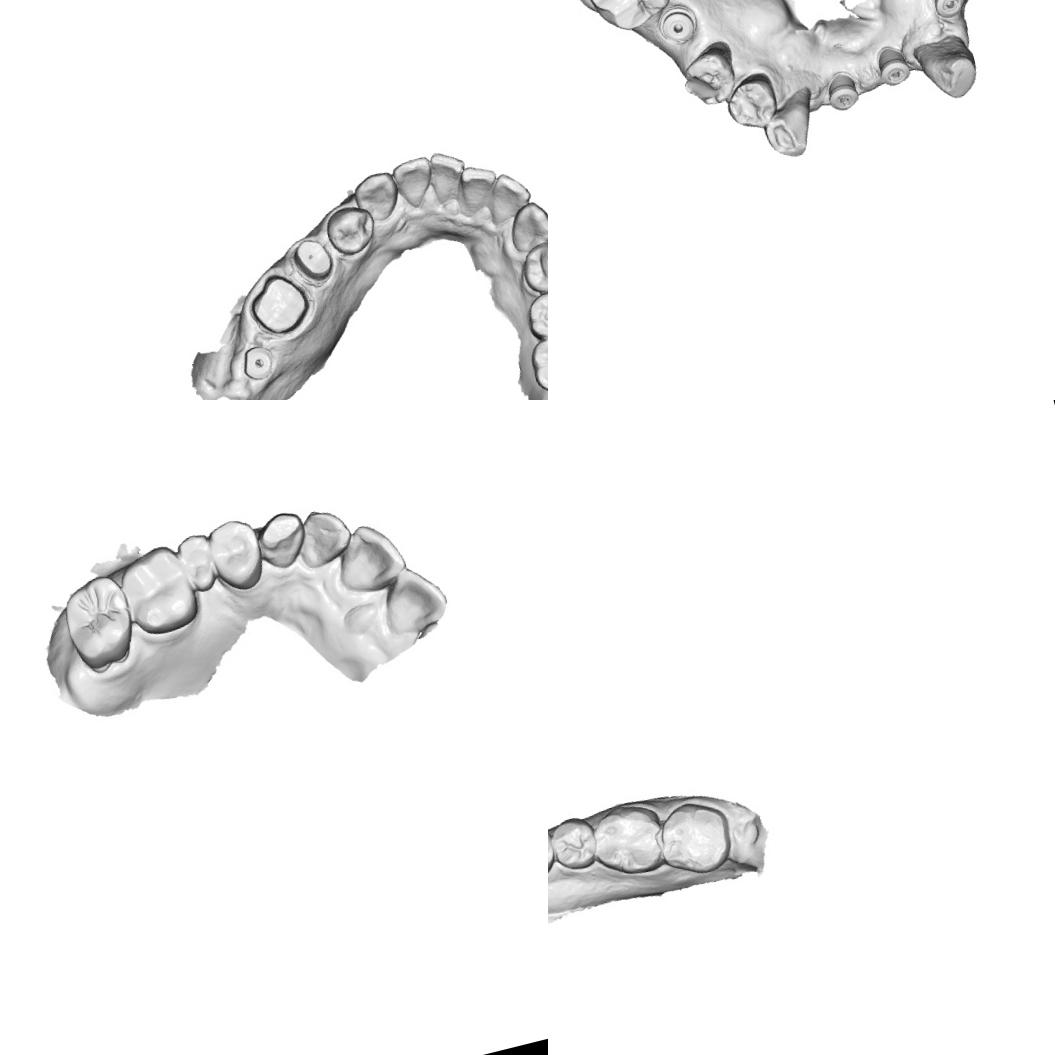canine: (909, 29, 983, 106), (754, 87, 825, 164), (252, 506, 312, 573), (348, 166, 404, 227), (502, 196, 548, 255)
crown: (240, 263, 321, 344), (285, 232, 339, 290)
implant: (652, 0, 701, 48), (236, 339, 279, 384)
implant_minus: (871, 41, 913, 89), (821, 69, 862, 114), (929, 0, 965, 20)
incisor: (328, 515, 410, 598), (372, 558, 454, 640), (290, 502, 357, 570), (480, 167, 536, 224), (388, 153, 441, 212), (424, 144, 472, 202), (455, 158, 503, 212)
molar: (112, 539, 203, 642), (55, 570, 141, 676), (650, 792, 739, 882), (584, 796, 672, 882), (575, 0, 676, 38), (523, 328, 548, 397)
premolar: (202, 512, 270, 596), (674, 36, 744, 112), (718, 68, 782, 136), (320, 200, 381, 260), (548, 812, 601, 874), (172, 529, 220, 596), (514, 235, 548, 298), (521, 286, 548, 342)
